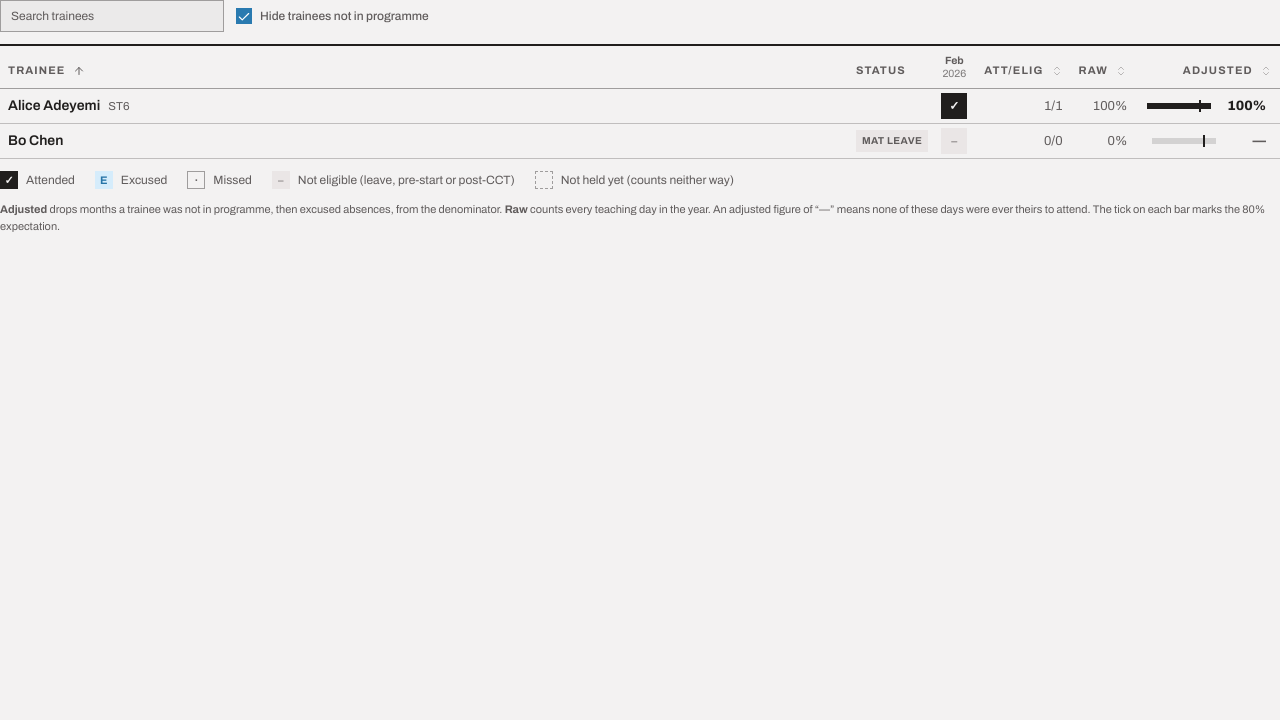
Test: AttendanceGrid cells › still shows a read-only viewer what a cell means, without letting them change it
What coordinates should you click on to do the following:
click the button named "Alice Adeyemi"
I would click on:
 (954, 106)
Its box is [941,93,967,119].
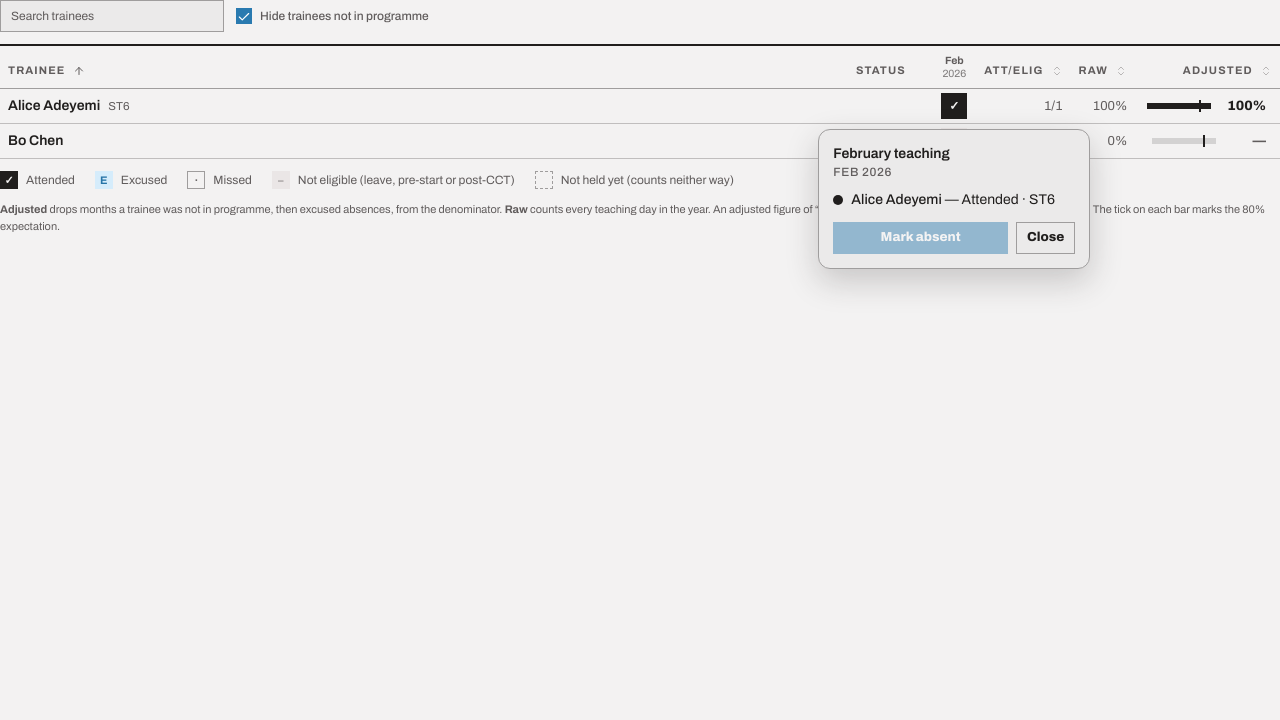
Expected: the text "February teaching" is shown, [833,146,950,161]
Expected: the button "Mark absent" is disabled, [833,222,1008,254]
